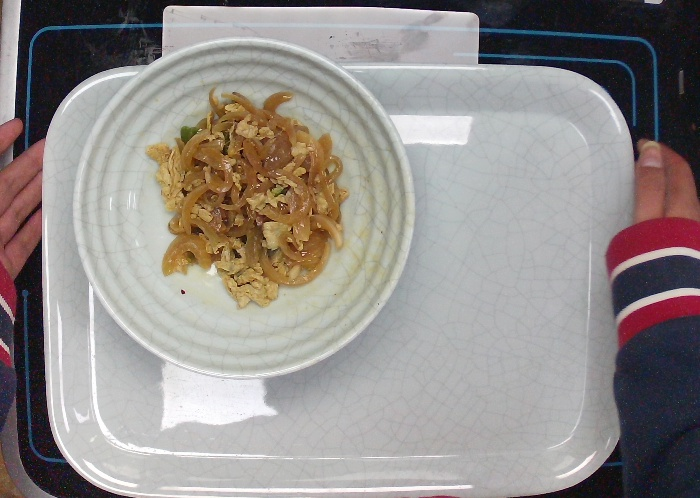JYsf-Da_Tang_Wan: (70, 34, 417, 382)
